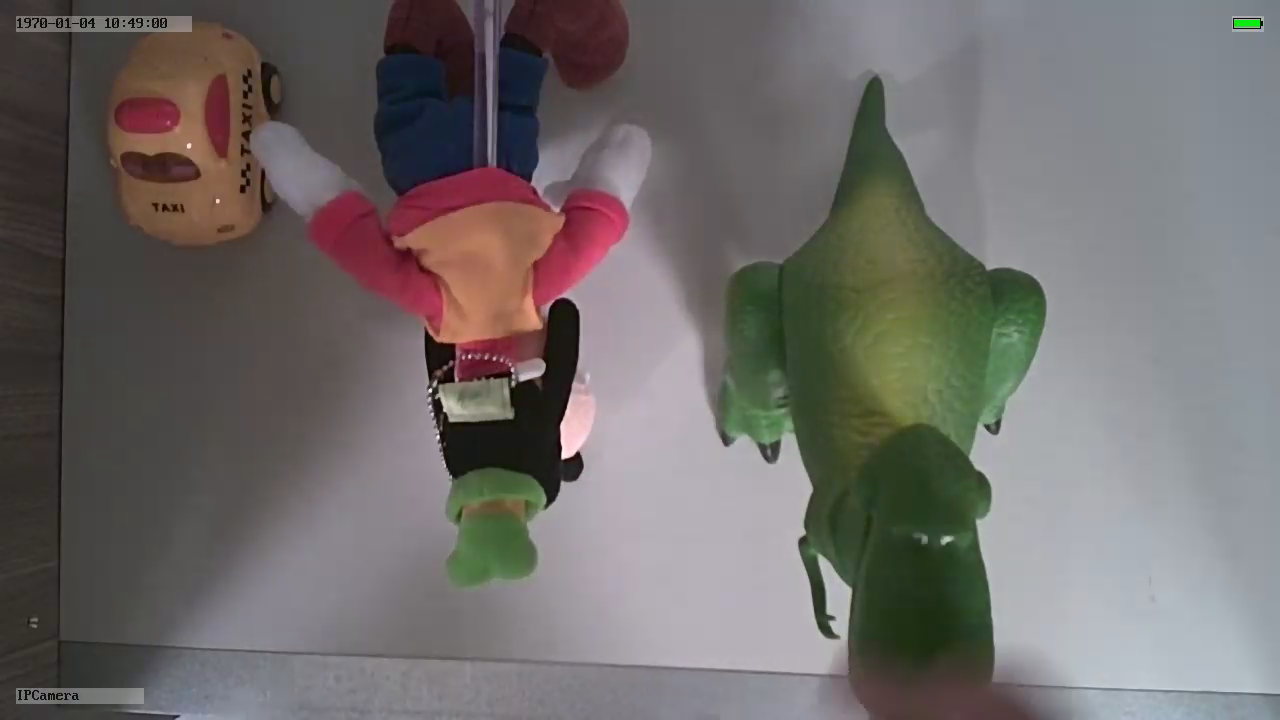goofy: (250, 118, 656, 589)
